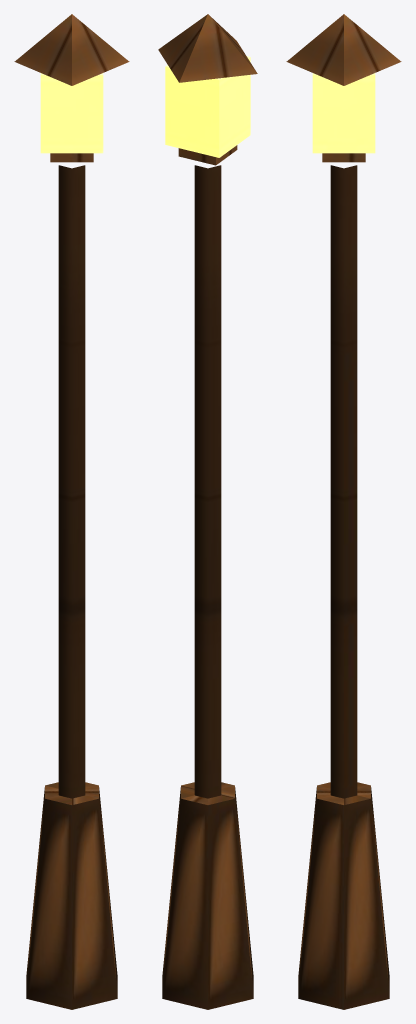
Rendered from herbal_lamp.glb.
The picture shows the model from 3 angles, left to right: view 1: azimuth 90°, elevation 25°; view 2: azimuth 150°, elevation 25°; view 3: azimuth 270°, elevation 25°; orthographic projection.
Parts seen in each view (by area): view 1: props_0_0; view 2: props_0_0; view 3: props_0_0.
Part boxes in pixels (x1,y1,x2,y2): props_0_0: (14,14,129,1009); props_0_0: (158,14,257,1009); props_0_0: (286,14,401,1009).
Size of the model in its own units: 0.48 by 4.48 by 0.48.
1 material, 1 textured.
